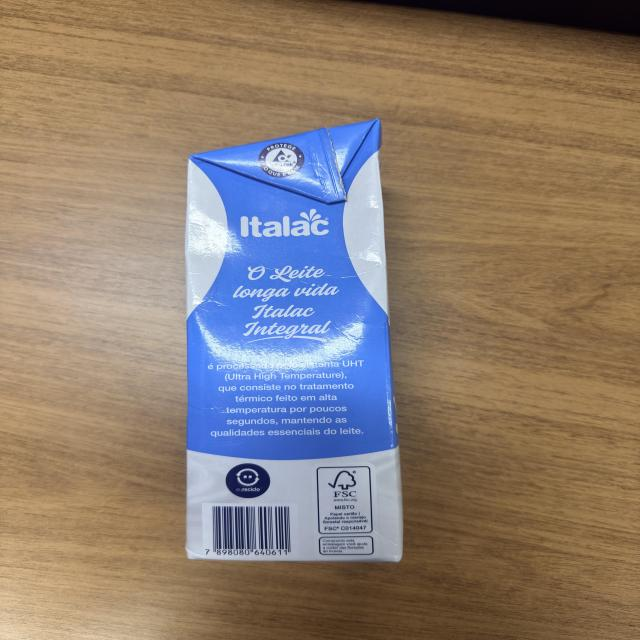Caixa de Leite: (183, 124, 403, 563)
